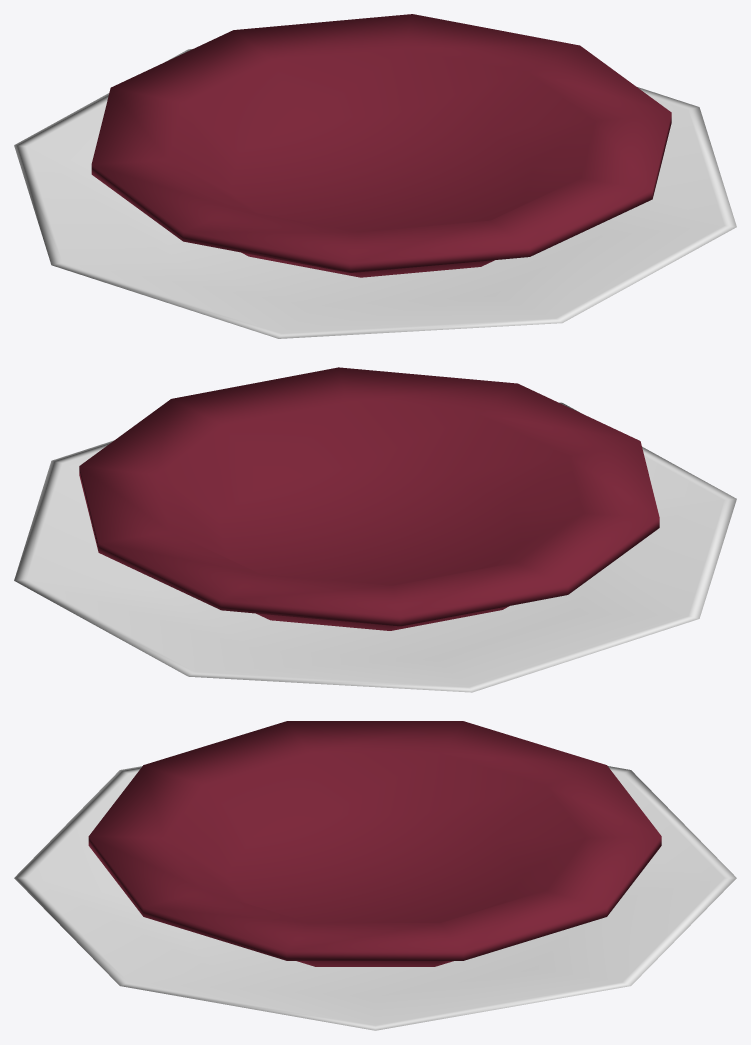
Rendered from plateBottonLow.fbx.
3 renders of one model, top to bottom at view 1: azimuth 30°, elevation 25°; view 2: azimuth 150°, elevation 25°; view 3: azimuth 270°, elevation 25°, orthographic. The views are drawn at different scales.
Visible parts, largest first — view 1: plateBottonLow; view 2: plateBottonLow; view 3: plateBottonLow.
Boxes of the visible parts, x1=… form: plateBottonLow: x1=14, y1=14, x2=736, y2=338; plateBottonLow: x1=14, y1=367, x2=736, y2=692; plateBottonLow: x1=14, y1=721, x2=736, y2=1030.
Size of the model in its own units: 0.6489 by 0.0759 by 0.6489.
